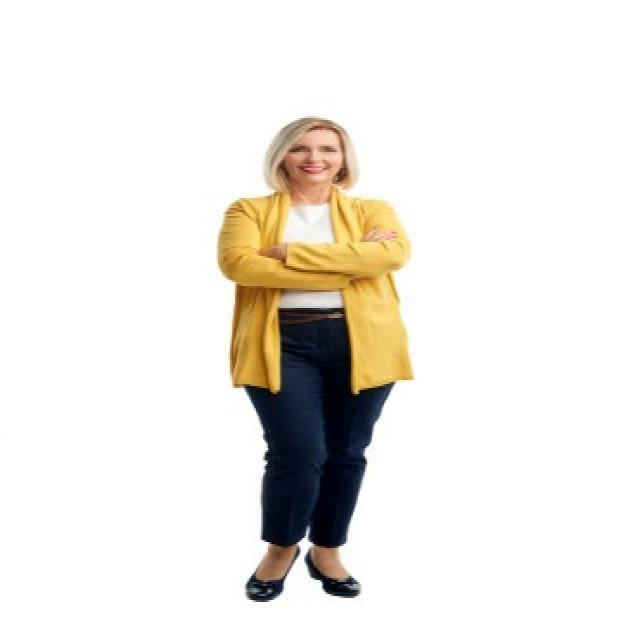adult: (205, 111, 411, 613)
